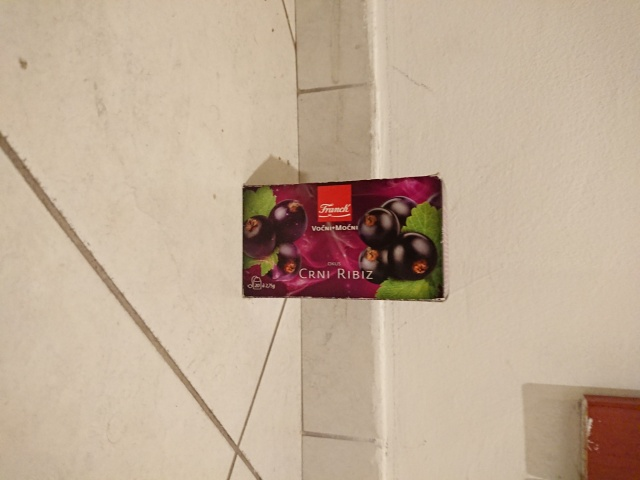Franck Black Currant Tea 60g: (238, 170, 454, 305)
